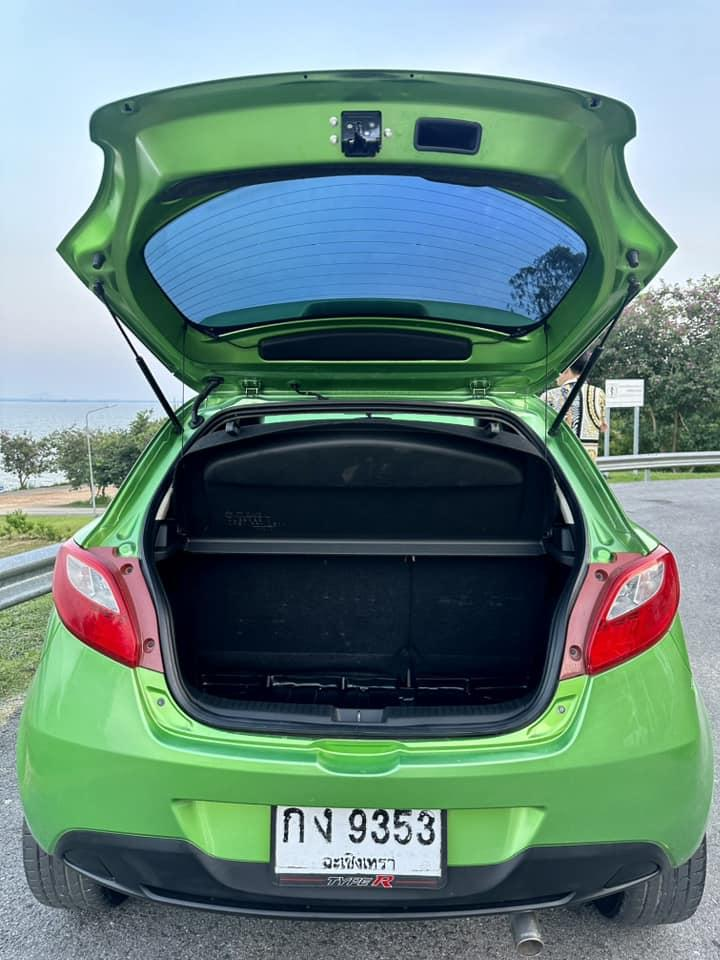license-plate: (271, 800, 449, 883)
